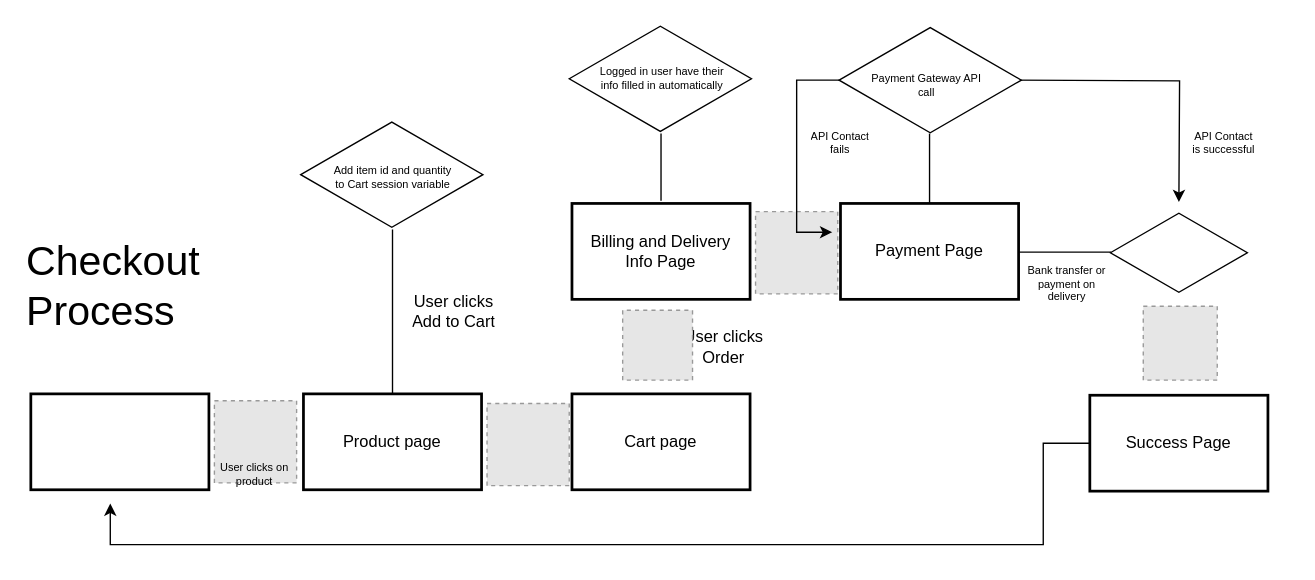
Image size: 1315x580. Some labels were removed from this diagram. Grey dashed boxes stand in for pictures. The shapes that lost their labels are listed below. From the top down, each one's box as (x1, y1, x2, y2) in pixels, then its label:
(1109, 210, 1247, 294): Payment Cleared
(29, 392, 210, 490): Catalog / Homepage
